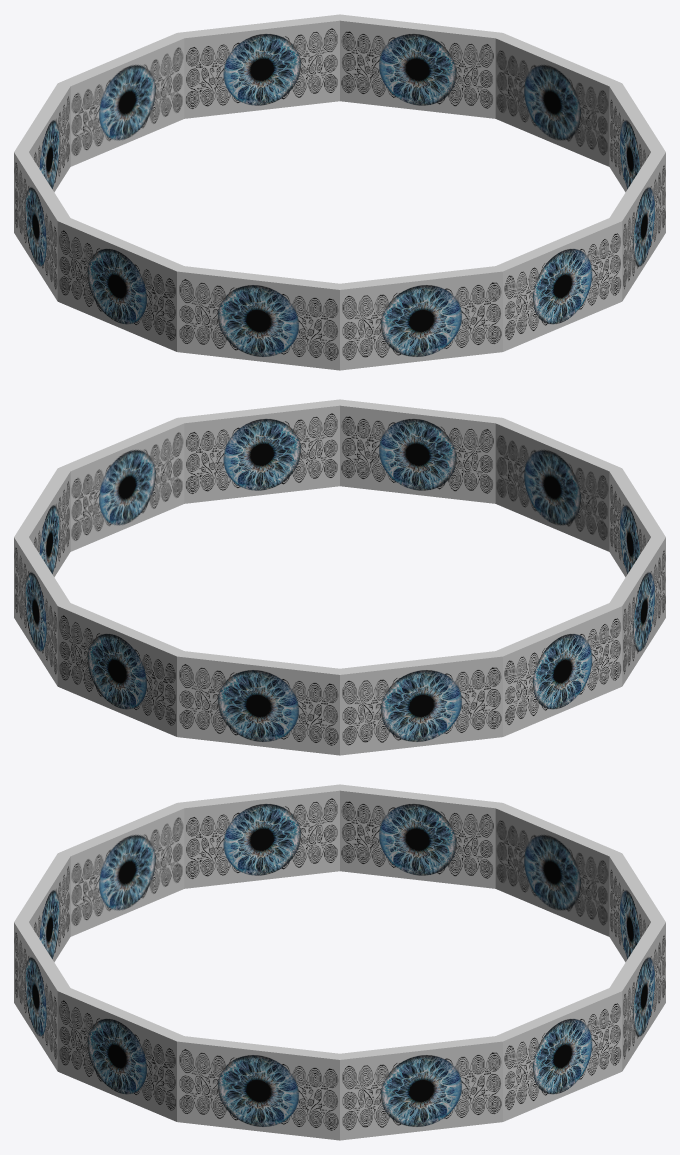
File: biblicalAngel.glb
3 renders of one model, top to bottom at view 1: azimuth 30°, elevation 25°; view 2: azimuth 150°, elevation 25°; view 3: azimuth 270°, elevation 25°, orthographic.
Visible parts, largest first — view 1: Cylinder; view 2: Cylinder; view 3: Cylinder.
Boxes of the visible parts, x1,y1,x2,y2 form: Cylinder: (14,14,665,370); Cylinder: (14,399,665,755); Cylinder: (14,784,665,1140).
Size of the model in its own units: 2.2 by 0.3 by 2.2.
Materials: 1 (1 with a texture image).
